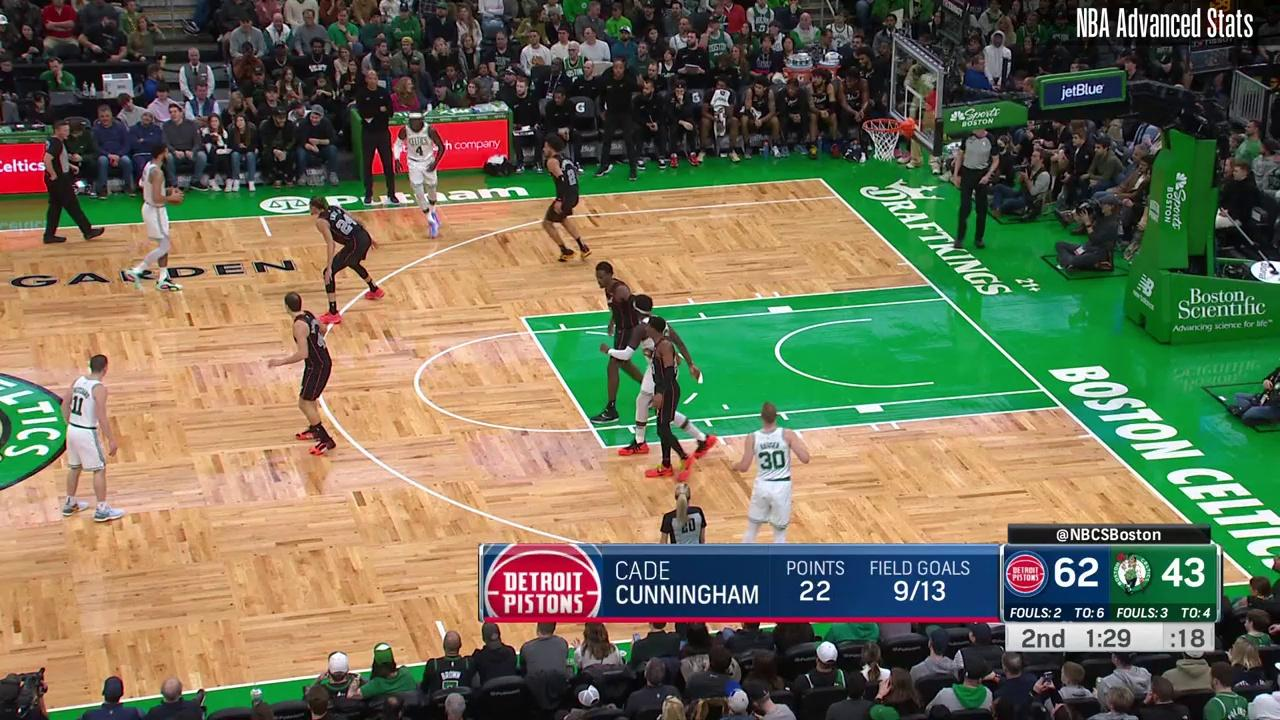3_sx: (833, 192, 844, 202)
b_dx: (1082, 621, 1139, 651), (1246, 575, 1259, 589)
b_sx: (815, 174, 826, 185)
free_adx: (599, 441, 610, 452)
free_asx: (516, 311, 528, 324)
free_bdx: (1056, 401, 1069, 413)
free_bsx: (926, 279, 936, 289)
mid_dx: (432, 616, 444, 627)
mid_sx: (265, 231, 275, 241)
referee: (34, 124, 104, 243), (952, 122, 1001, 240), (657, 480, 709, 552)
team: (598, 297, 718, 456), (61, 355, 127, 524), (733, 406, 811, 546), (127, 145, 187, 293), (392, 106, 450, 239)
team1: (268, 292, 339, 454), (308, 195, 385, 328), (639, 315, 695, 487), (590, 261, 644, 418), (538, 138, 593, 264)
